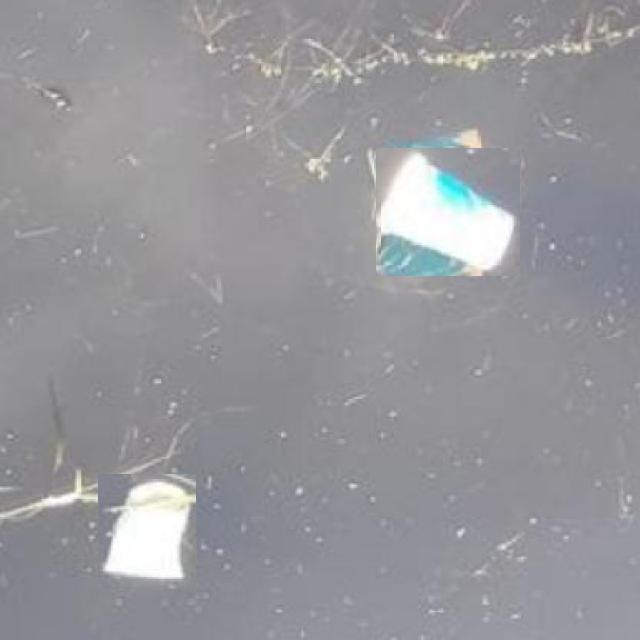Plastic Waste: (98, 474, 196, 589)
Plastic cup: (376, 148, 520, 276)
